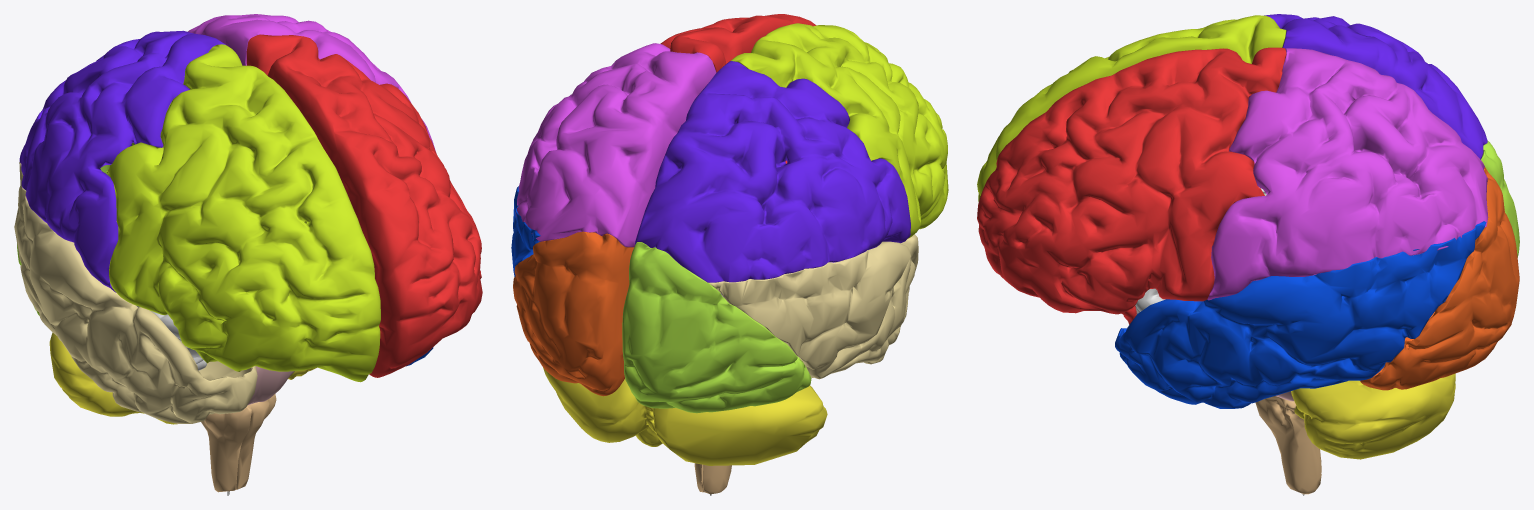
The model's file is brain.glb.
3 renders of one model, left to right at view 1: azimuth 30°, elevation 25°; view 2: azimuth 150°, elevation 25°; view 3: azimuth 270°, elevation 25°, orthographic. The views are drawn at different scales.
Visible parts, largest first — view 1: Right frontal lobe, Left frontal lobe, Right parietal lobe, Right temporal lobe, Left parietal lobe, Medulla oblongata, Cerebellum, Pons; view 2: Right parietal lobe, Left parietal lobe, Right occipital lobe, Right frontal lobe, Right temporal lobe, Left occipital lobe, Cerebellum, Left frontal lobe, Left temporal lobe, Medulla oblongata; view 3: Left frontal lobe, Left parietal lobe, Left temporal lobe, Left occipital lobe, Cerebellum, Right parietal lobe, Right frontal lobe, Medulla oblongata, Right occipital lobe.
Boxes of the visible parts, x1,y1,x2,y2 form: Right frontal lobe: (106,44,380,382); Left frontal lobe: (246,34,482,377); Right parietal lobe: (19,30,225,292); Right temporal lobe: (14,162,257,423); Left parietal lobe: (188,14,435,151); Medulla oblongata: (201,394,276,492); Cerebellum: (49,332,316,424); Pons: (247,366,294,405); Right parietal lobe: (635,61,910,296); Left parietal lobe: (515,43,716,247); Right occipital lobe: (622,242,811,413); Right frontal lobe: (730,23,948,238); Right temporal lobe: (709,234,918,379); Left occipital lobe: (513,231,633,396); Cerebellum: (543,367,827,465); Left frontal lobe: (660,14,816,163); Left temporal lobe: (511,186,540,276); Medulla oblongata: (694,463,731,494); Left frontal lobe: (977,47,1286,324); Left parietal lobe: (1207,48,1488,300); Left temporal lobe: (1115,221,1486,408); Left occipital lobe: (1360,167,1519,390); Cerebellum: (1291,373,1455,459); Right parietal lobe: (1264,14,1487,159); Right frontal lobe: (977,15,1286,201); Medulla oblongata: (1255,396,1321,494); Right occipital lobe: (1481,141,1519,257).
Size of the model in its own units: 37.53 by 44.44 by 47.88.
